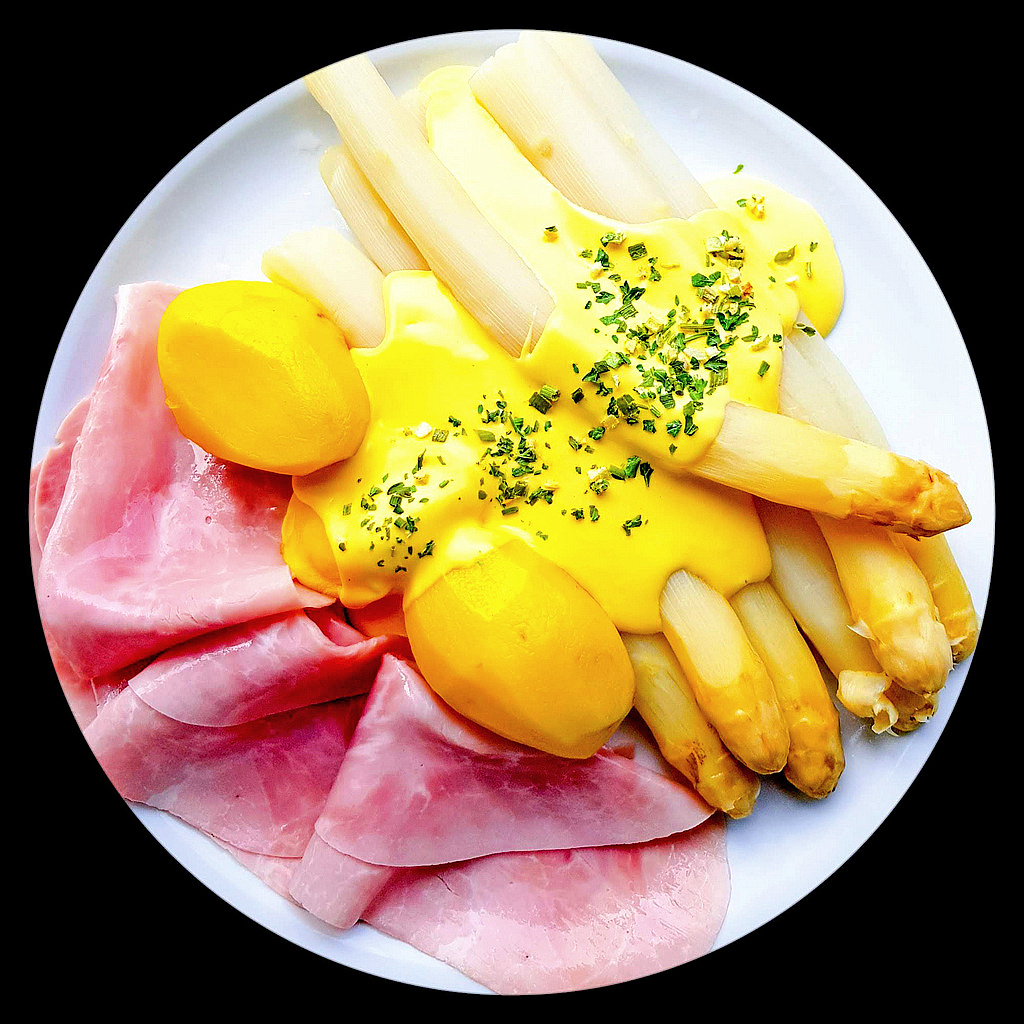boiled potatoes: (401, 520, 632, 757), (148, 296, 373, 477)
